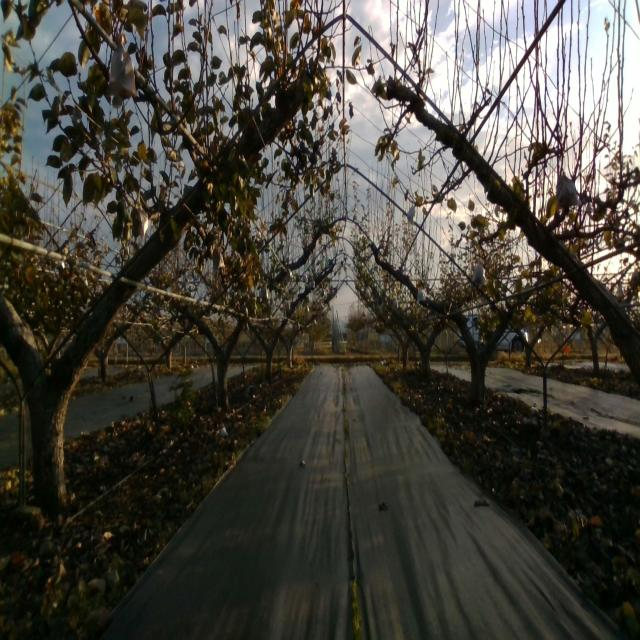pearbags: (108, 33, 136, 98), (556, 167, 578, 208), (130, 197, 149, 237), (472, 264, 486, 284)
